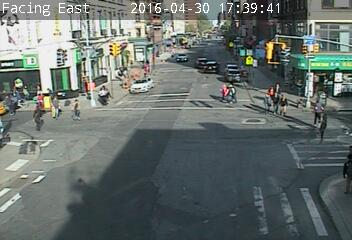neg: (5, 149, 38, 192), (55, 6, 83, 44), (156, 2, 182, 36), (5, 132, 30, 165), (258, 24, 282, 56), (18, 14, 40, 44), (187, 29, 206, 54), (46, 47, 64, 71), (222, 2, 237, 22), (1, 44, 15, 64), (234, 10, 246, 24), (20, 57, 31, 72), (244, 22, 255, 36), (99, 24, 108, 36)
